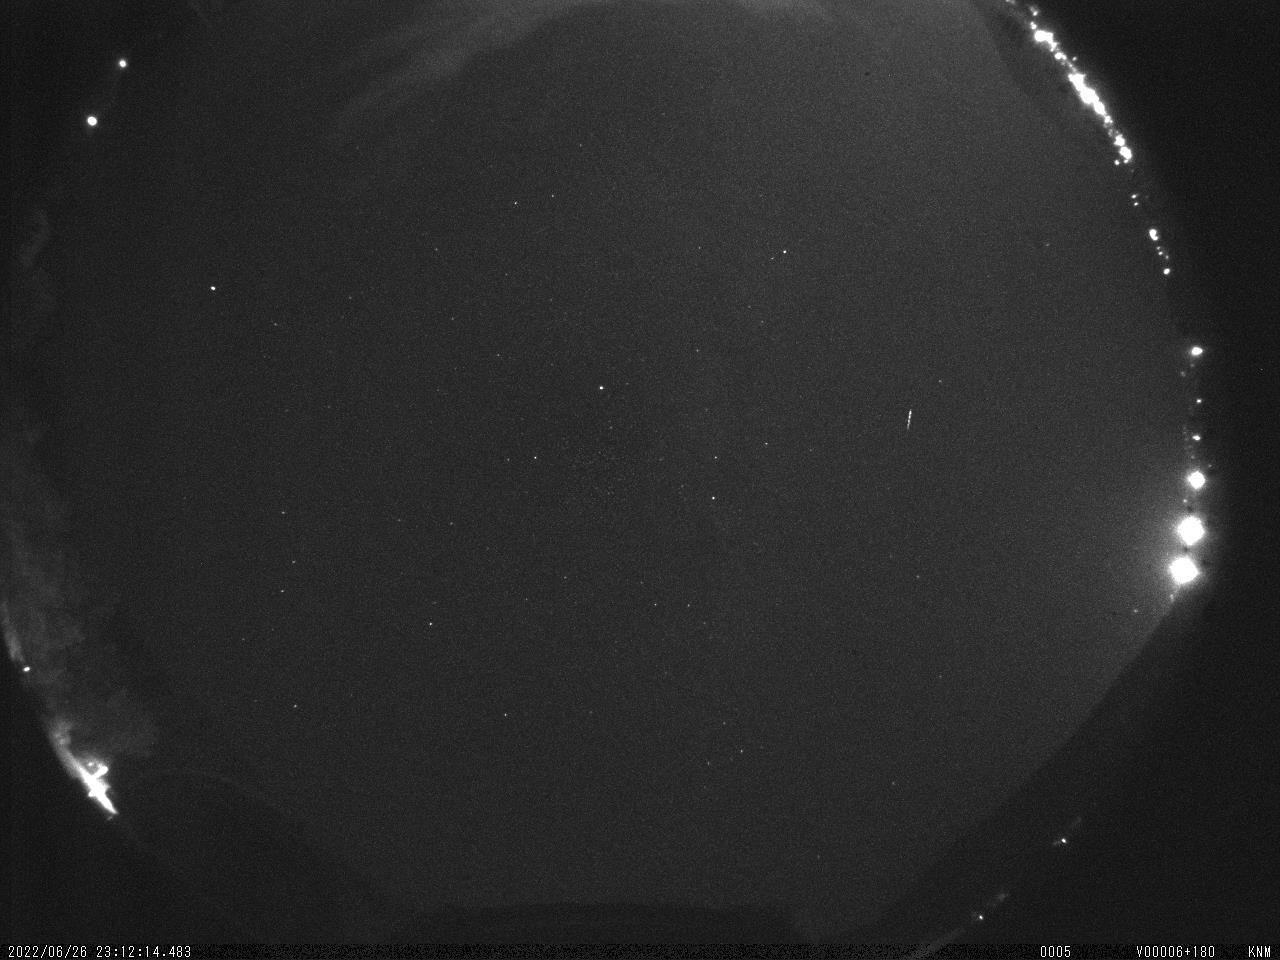Meteor: (902, 401, 920, 438)
